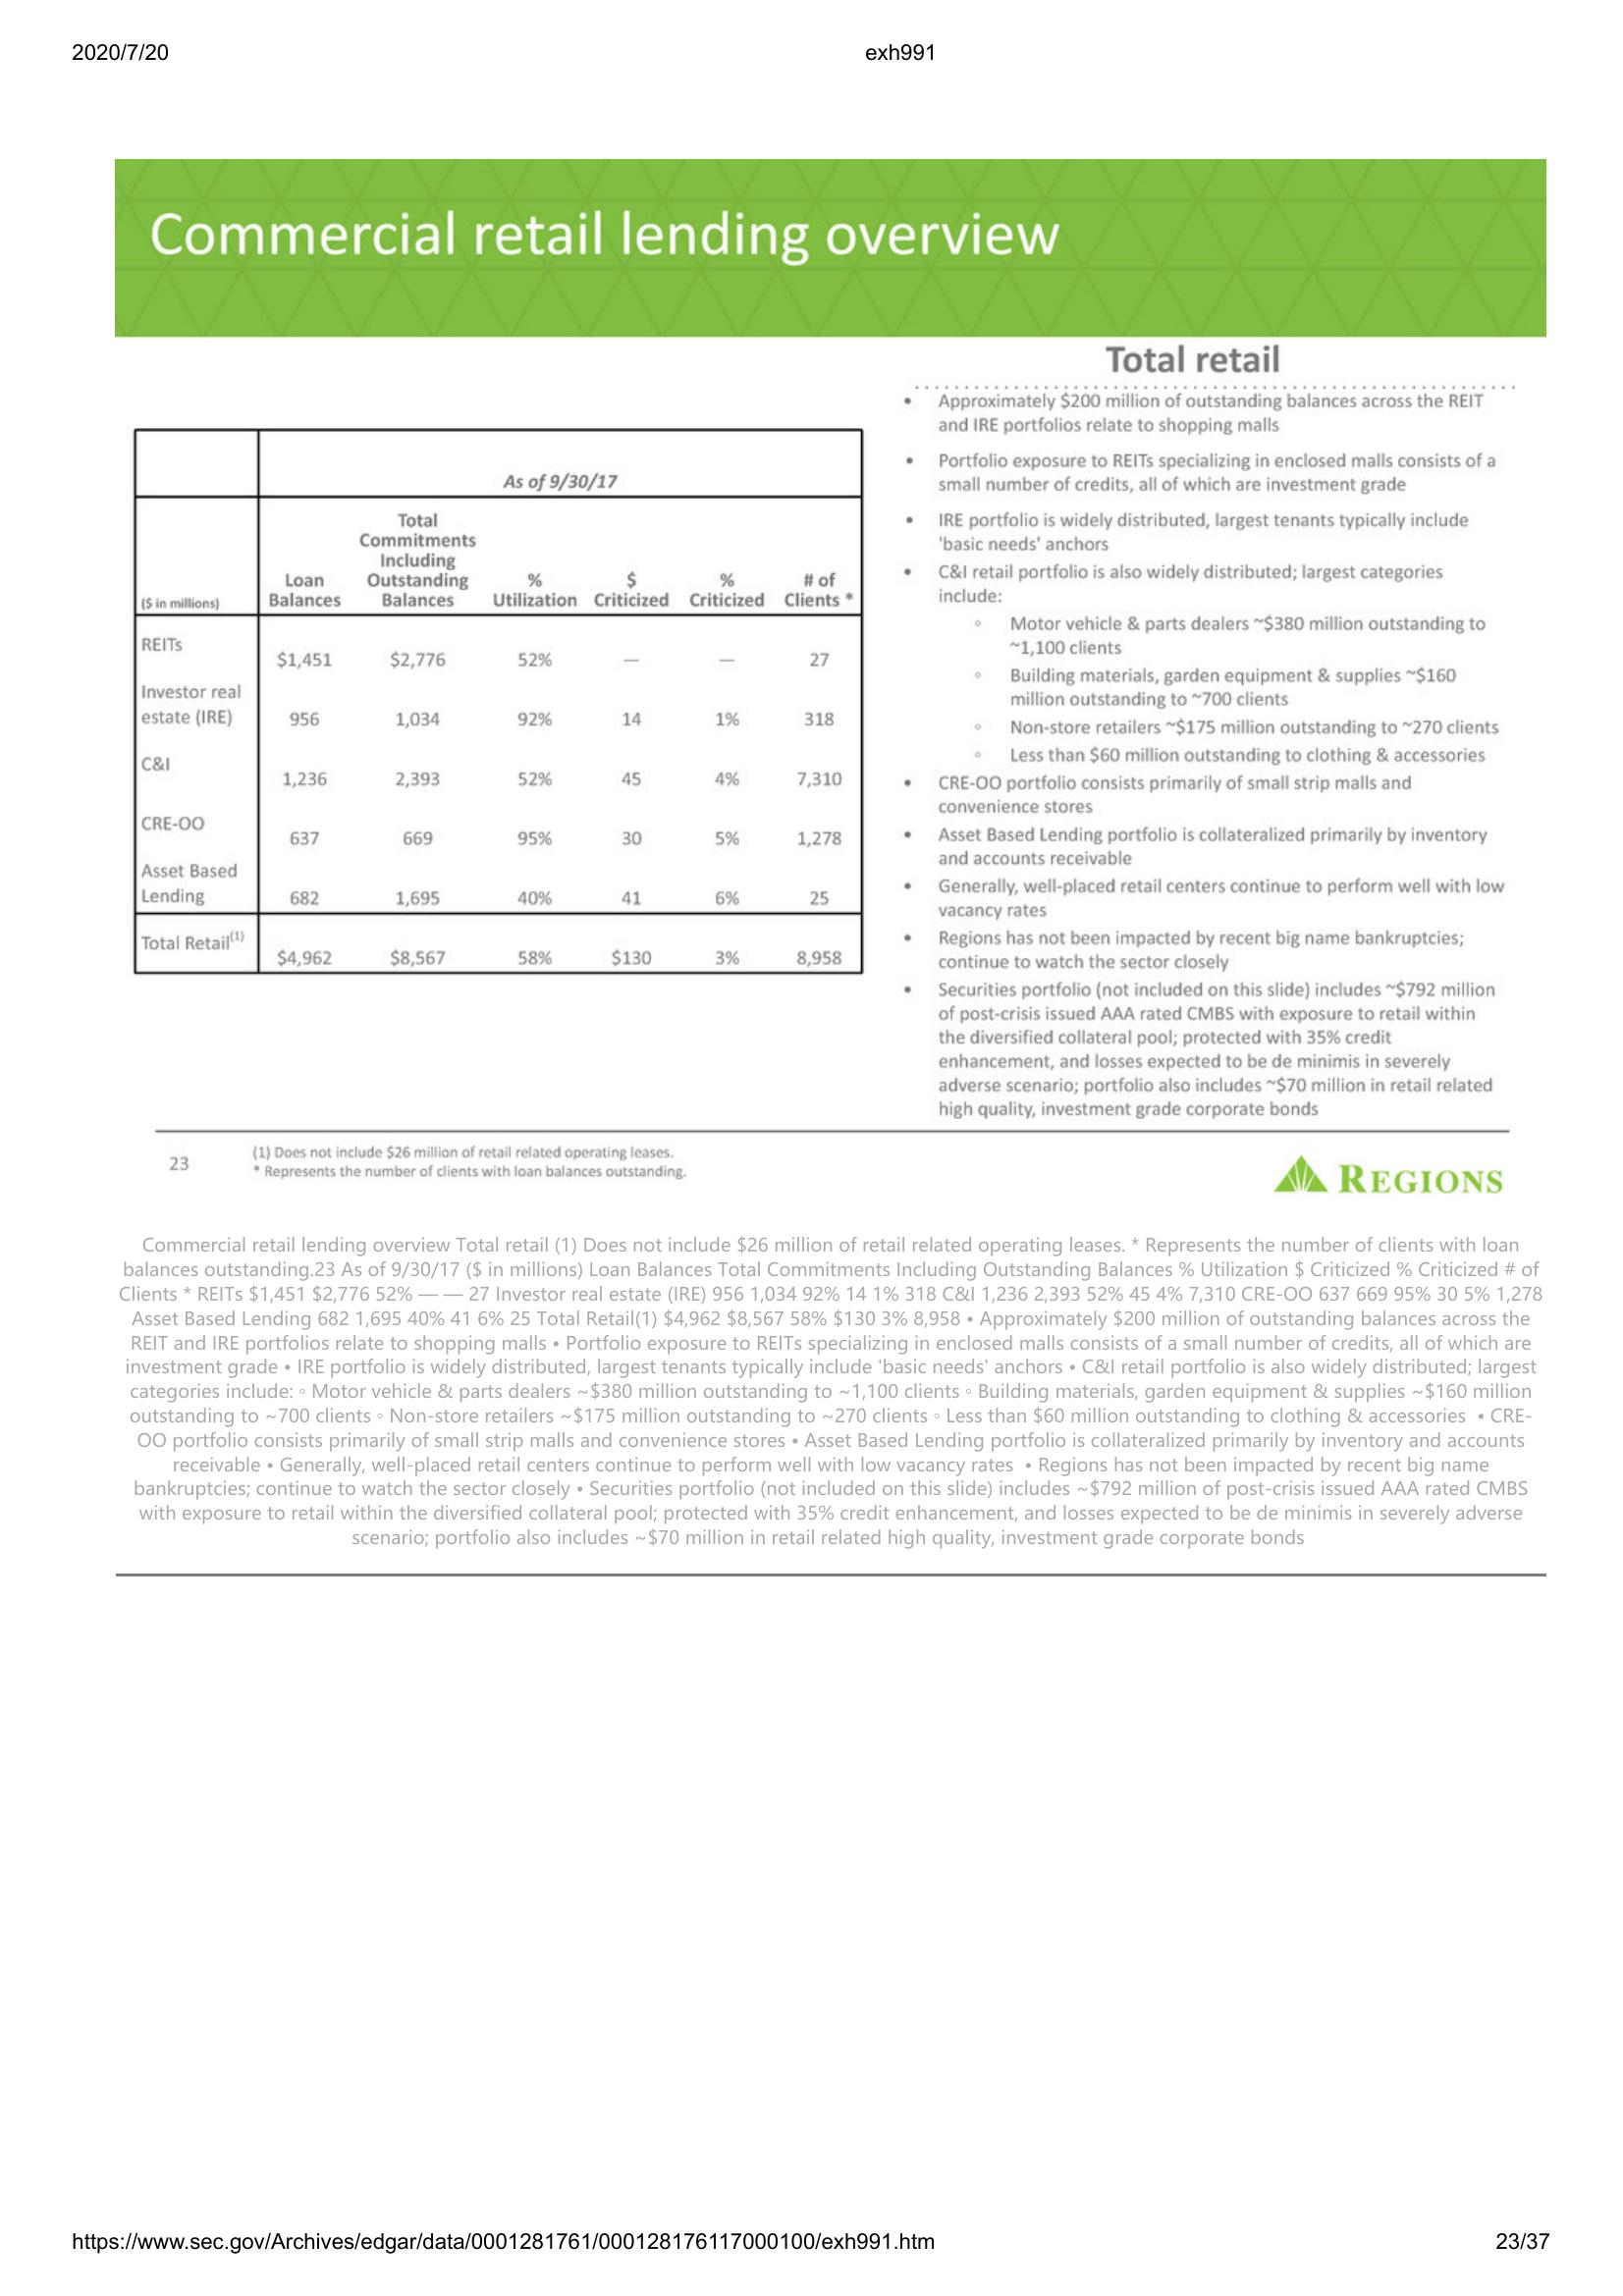table: (126, 423, 869, 985)
